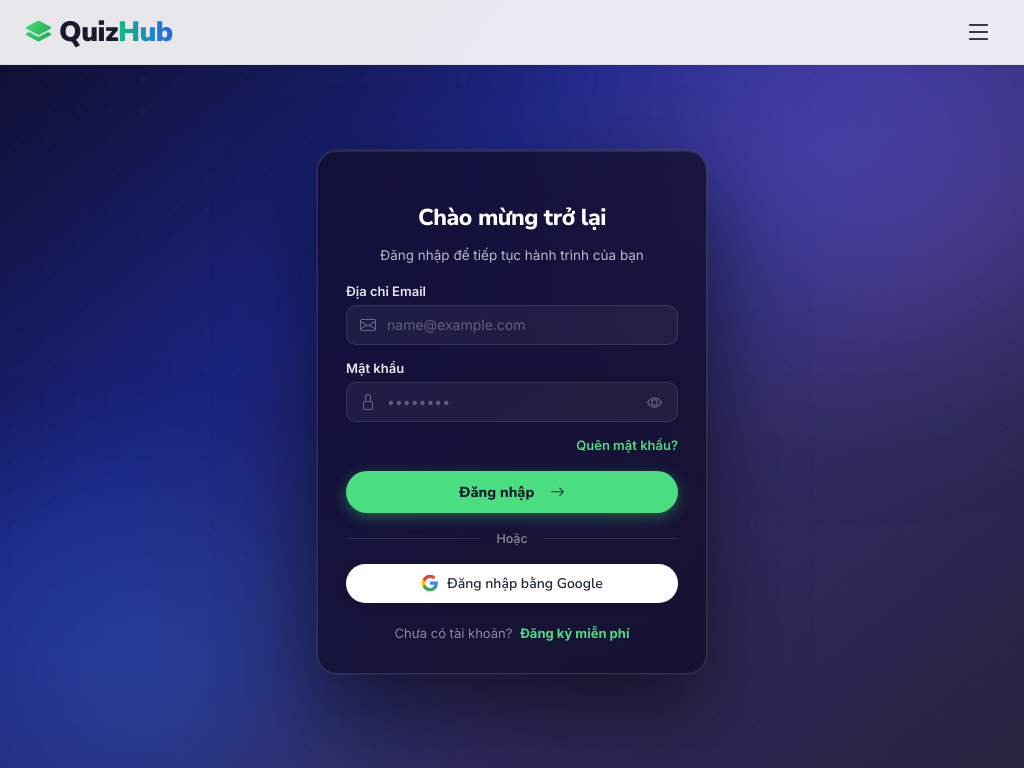
Test case: LoginPage Component - V1 1:1 Parity and Auth Behavior › handles login error and displays error message safely
Type "wrong@quizhub.com" into the field labelled "Địa chỉ Email" at [512, 325], box [346, 305, 678, 345]
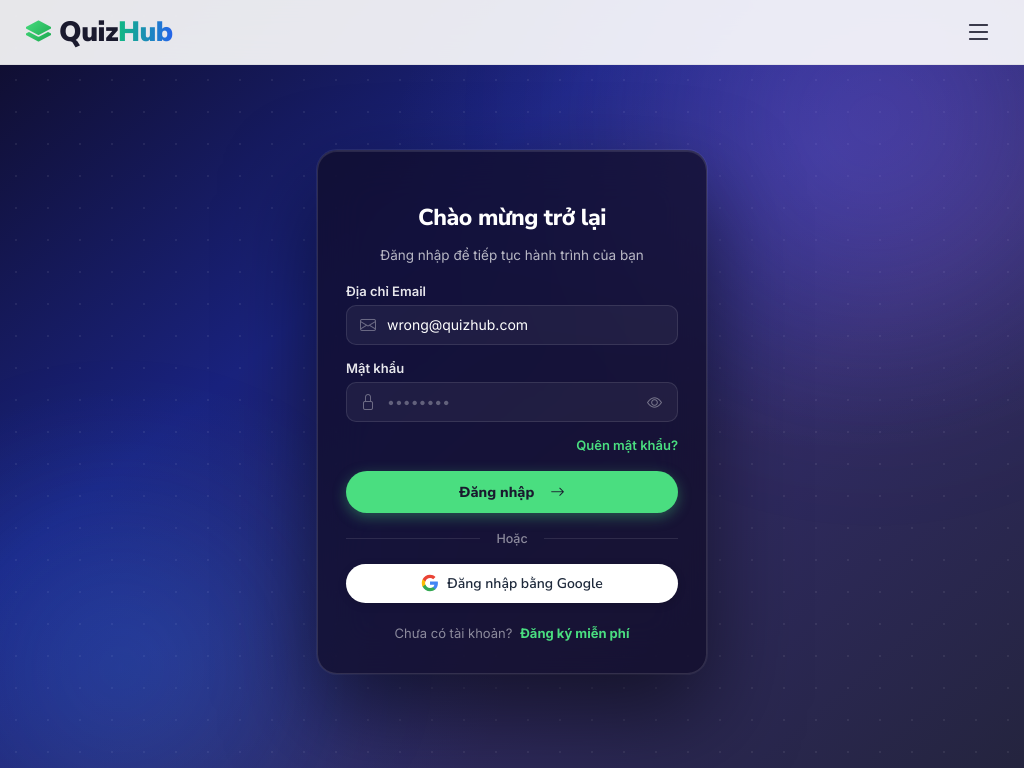
Type "wrongpass" into the password field labelled "Mật khẩu" at [512, 402], box [346, 382, 678, 422]
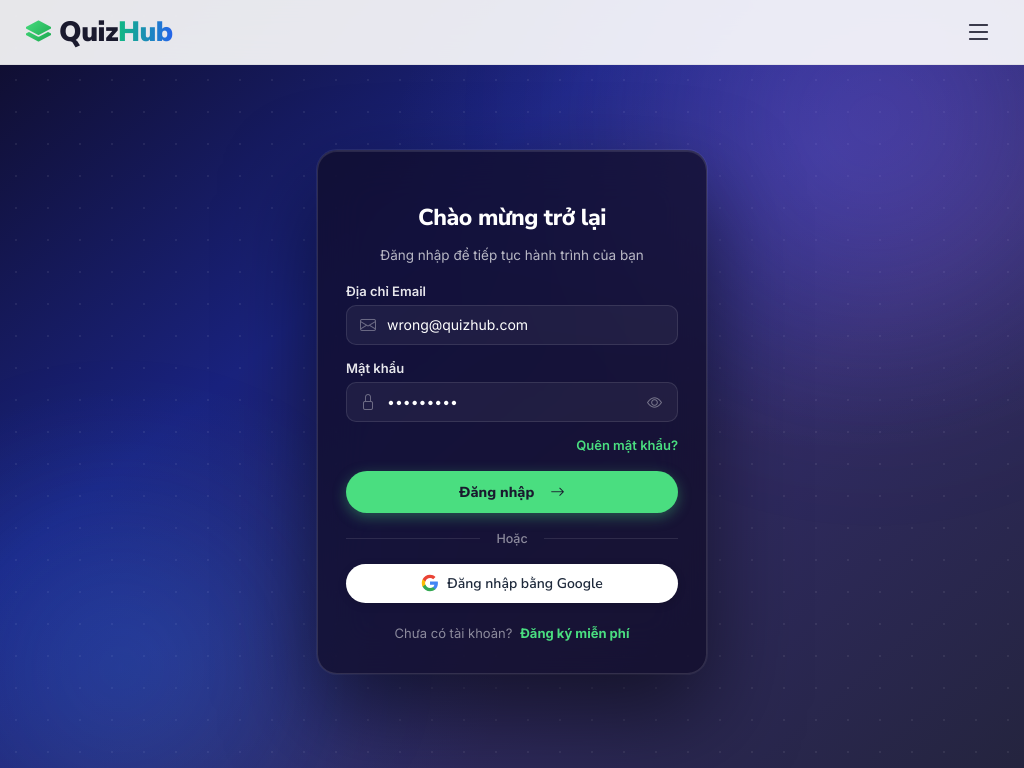
Click the button "Đăng nhập" at [512, 492], box [346, 471, 678, 513]
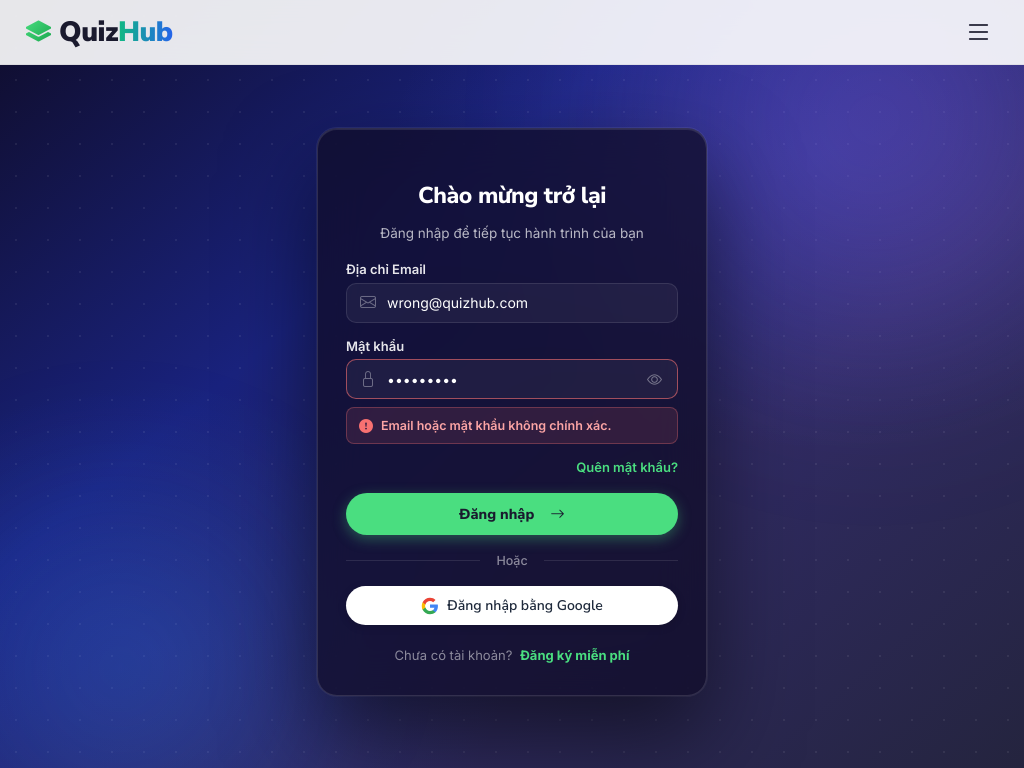
Expected: the message reads "Email hoặc mật khẩu không chính xác.", [381, 418, 612, 433]
